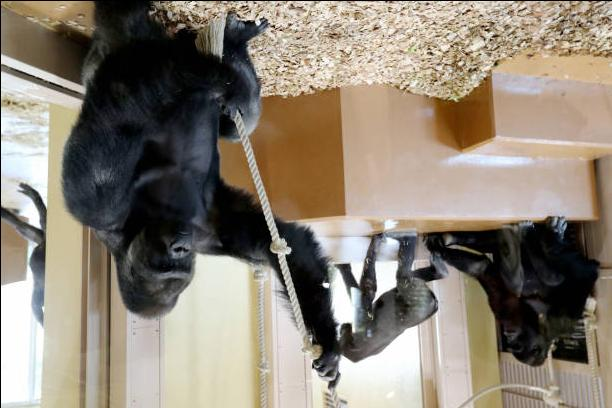gorille_Autres: (54, 0, 267, 331)
